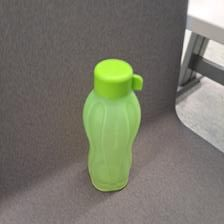bottle: (79, 56, 143, 193)
